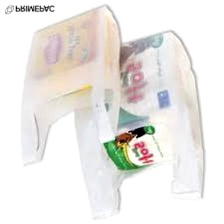plastic_bag: (72, 27, 206, 221), (8, 5, 136, 171)
